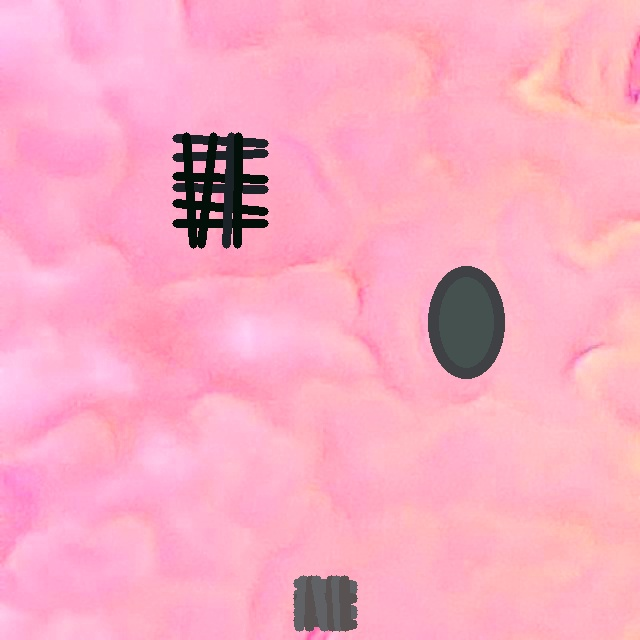close: (172, 132, 268, 248), (429, 266, 504, 378)
open: (293, 575, 356, 630)
